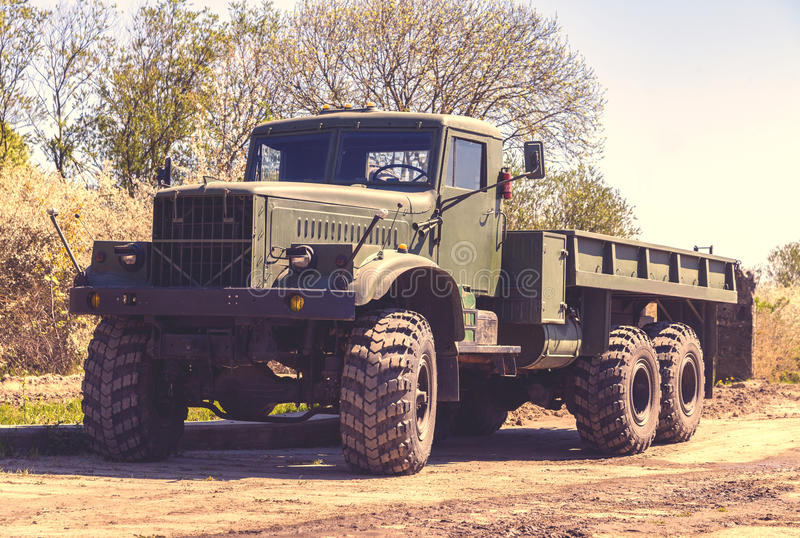camion: (78, 93, 730, 445)
